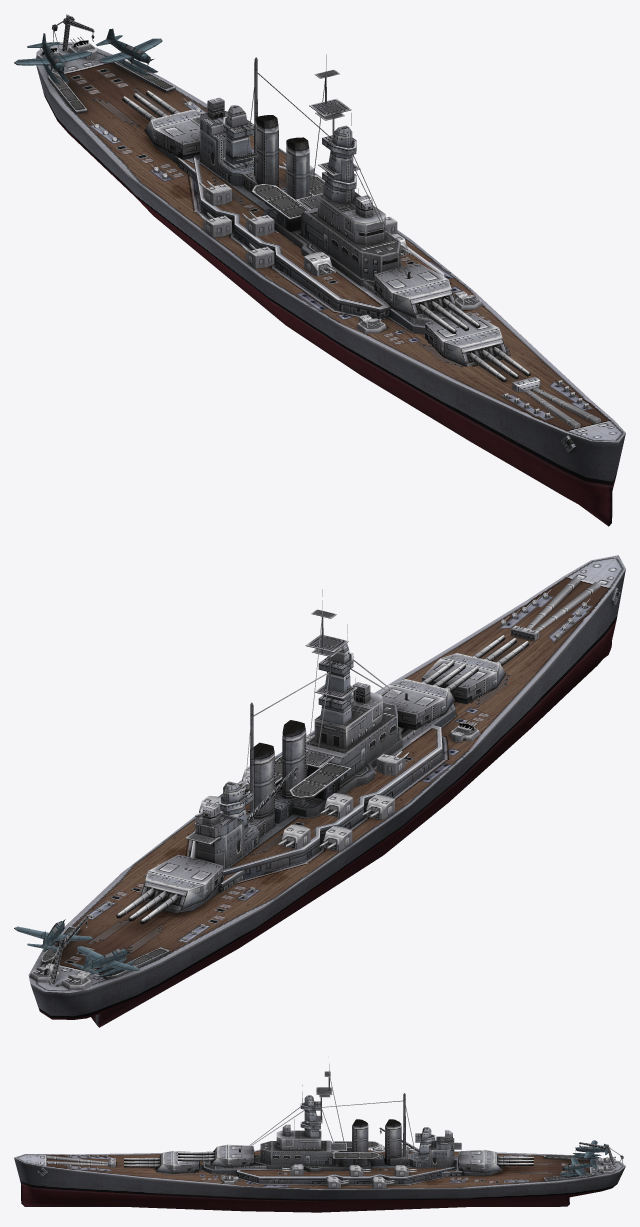
Rendered from NorthCarolina.fbx.
3 renders of one model, top to bottom at view 1: azimuth 30°, elevation 25°; view 2: azimuth 150°, elevation 25°; view 3: azimuth 270°, elevation 25°, orthographic. The views are drawn at different scales.
Visible parts, largest first — view 1: Body, M_Cannon02, M_Cannon01, M_Cannon03, barrel01, barrel01_ncl1_1, barrel01_ncl1_2; view 2: Body, M_Cannon03, M_Cannon02, M_Cannon01, barrel01_ncl1_2, barrel01_ncl1_1, barrel01; view 3: Body, M_Cannon02, M_Cannon03, M_Cannon01, barrel01_ncl1_2, barrel01_ncl1_1, barrel01.
Boxes of the visible parts, x1=… form: Body: x1=14, y1=14, x2=625, y2=526; M_Cannon02: x1=374, y1=263, x2=457, y2=318; M_Cannon01: x1=425, y1=312, x2=508, y2=366; M_Cannon03: x1=144, y1=109, x2=203, y2=159; barrel01: x1=469, y1=347, x2=530, y2=382; barrel01_ncl1_1: x1=418, y1=298, x2=480, y2=333; barrel01_ncl1_2: x1=122, y1=90, x2=179, y2=121; Body: x1=14, y1=555, x2=625, y2=1027; M_Cannon03: x1=140, y1=854, x2=223, y2=910; M_Cannon02: x1=380, y1=679, x2=455, y2=729; M_Cannon01: x1=422, y1=653, x2=506, y2=704; barrel01_ncl1_2: x1=116, y1=888, x2=178, y2=924; barrel01_ncl1_1: x1=421, y1=661, x2=478, y2=692; barrel01: x1=472, y1=635, x2=529, y2=665; Body: x1=14, y1=1063, x2=625, y2=1212; M_Cannon02: x1=210, y1=1144, x2=254, y2=1167; M_Cannon03: x1=458, y1=1149, x2=502, y2=1172; M_Cannon01: x1=156, y1=1150, x2=199, y2=1173; barrel01_ncl1_2: x1=497, y1=1156, x2=533, y2=1166; barrel01_ncl1_1: x1=178, y1=1152, x2=214, y2=1161; barrel01: x1=124, y1=1158, x2=159, y2=1167.
Bounding box in the file's own units: 34.51 × 60.78 × 224.
1 material, 1 textured.
